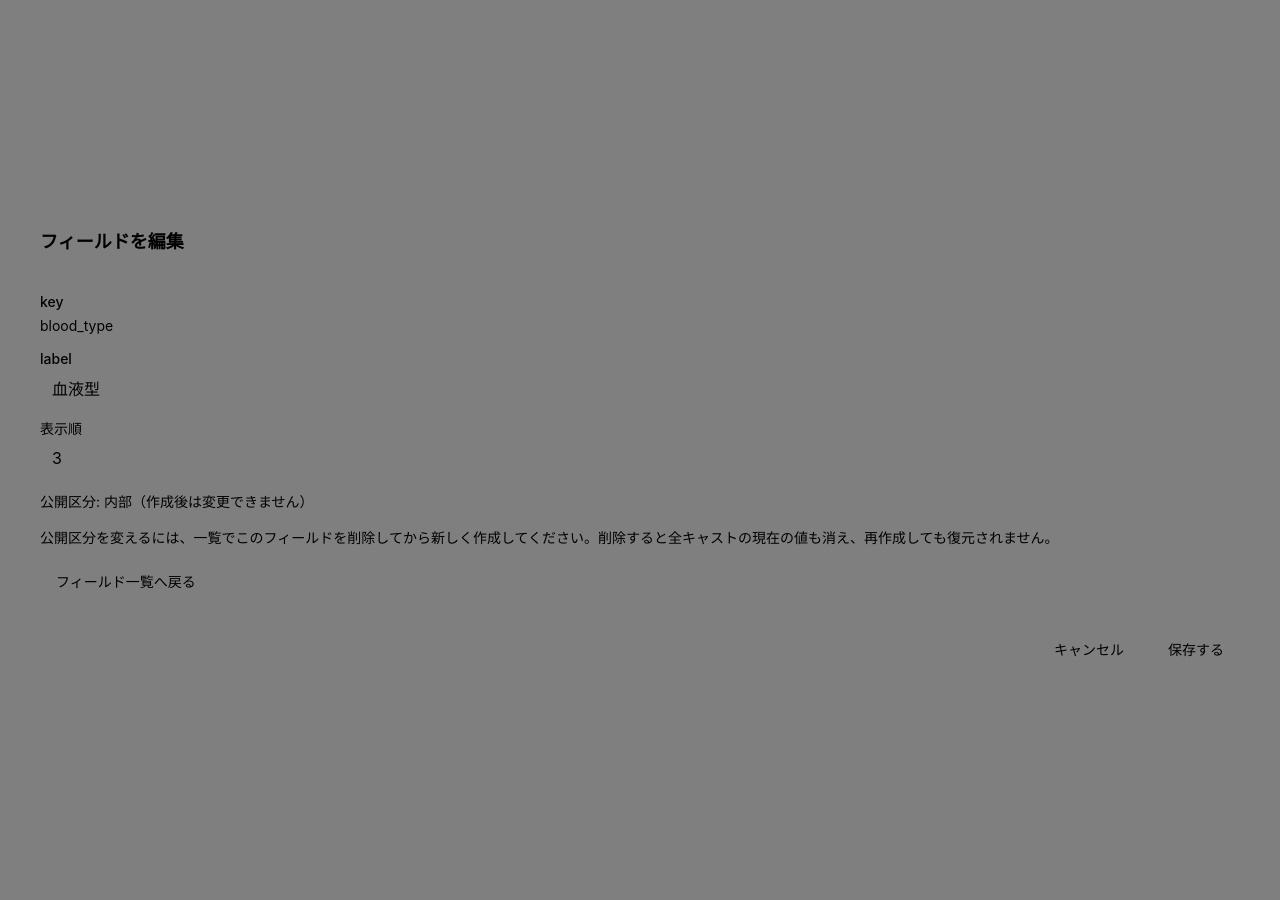
Test: カスタムフィールド定義の編集モーダル › 表示順に小数を入れると文言を出して更新を呼ばないこと
Replace the text in the number field labelled "表示順" with "1.5". click: (640, 458)
box: [40, 440, 1240, 476]
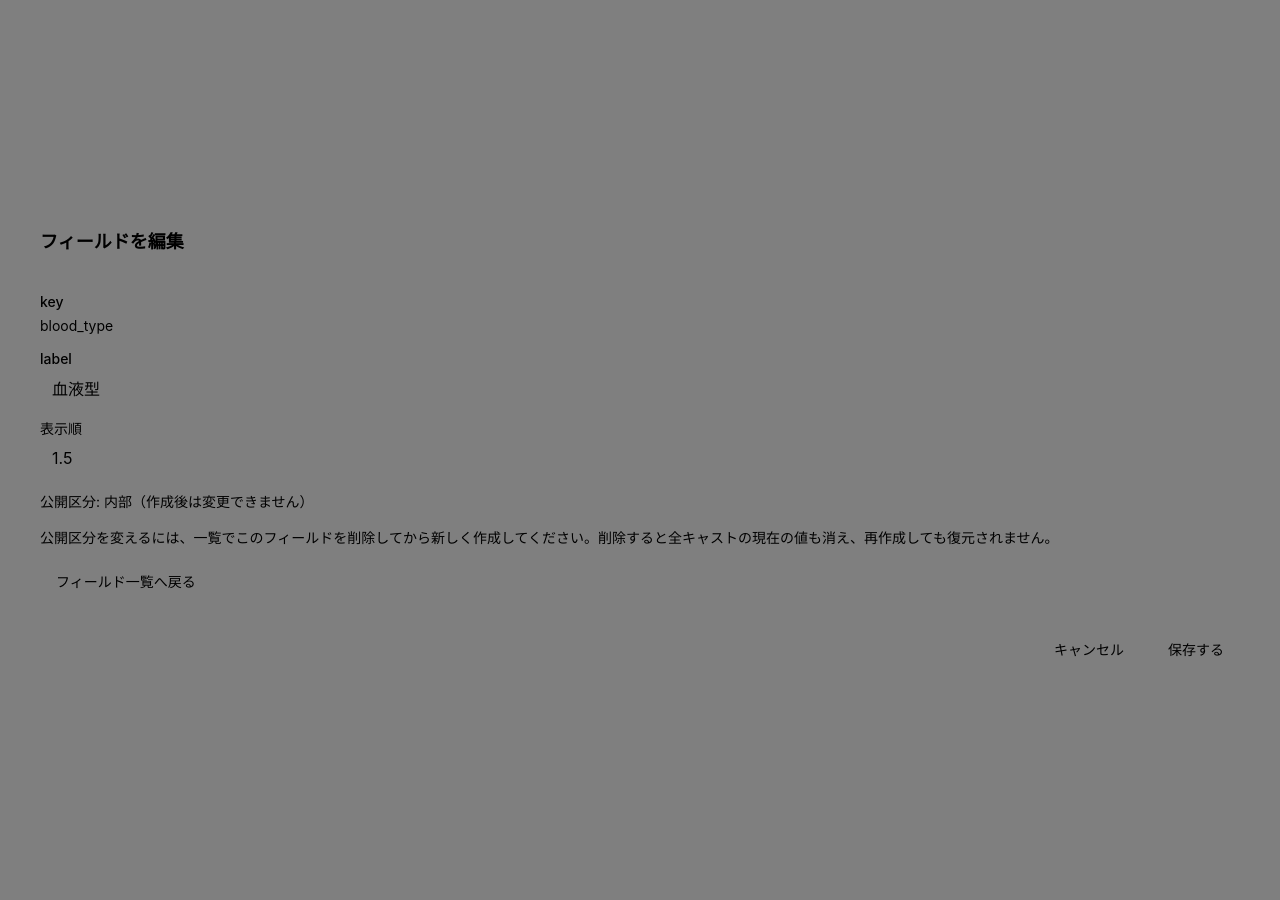
Click the button "保存する". click: (1196, 650)
box: [1152, 632, 1240, 668]
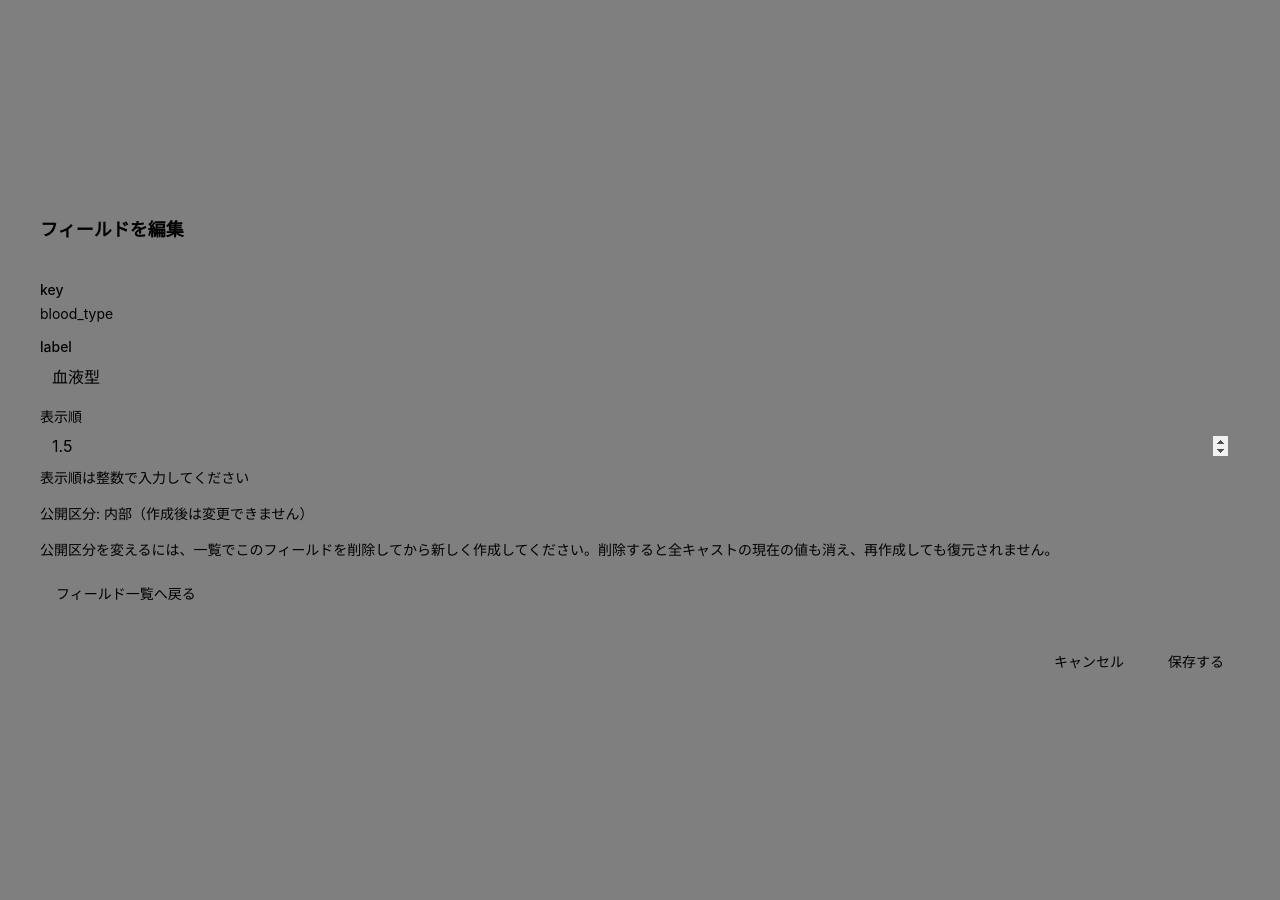
Expected: the text "表示順は整数で入力してください" is shown, [40, 469, 249, 486]
